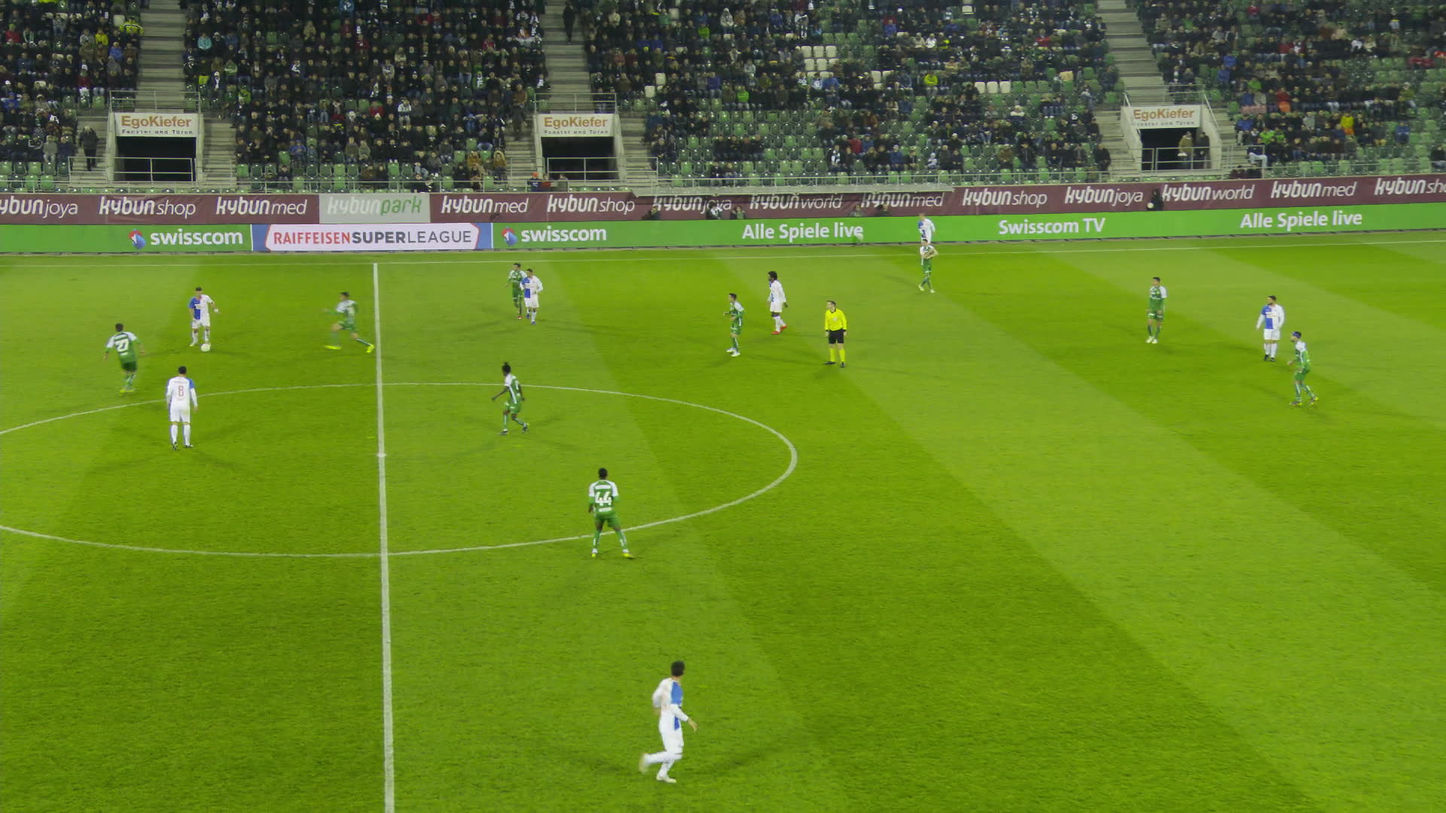ball: (202, 344, 210, 352)
player: (632, 658, 698, 788), (586, 464, 624, 559), (103, 324, 143, 397), (166, 366, 197, 450), (495, 360, 527, 436), (1286, 331, 1313, 407), (333, 292, 367, 352), (186, 286, 218, 348), (1255, 296, 1284, 361), (1145, 277, 1168, 344), (765, 271, 786, 333), (726, 293, 746, 357), (515, 269, 538, 324), (508, 261, 526, 318), (920, 238, 938, 293), (918, 212, 935, 245)
referee: (825, 300, 848, 367)
